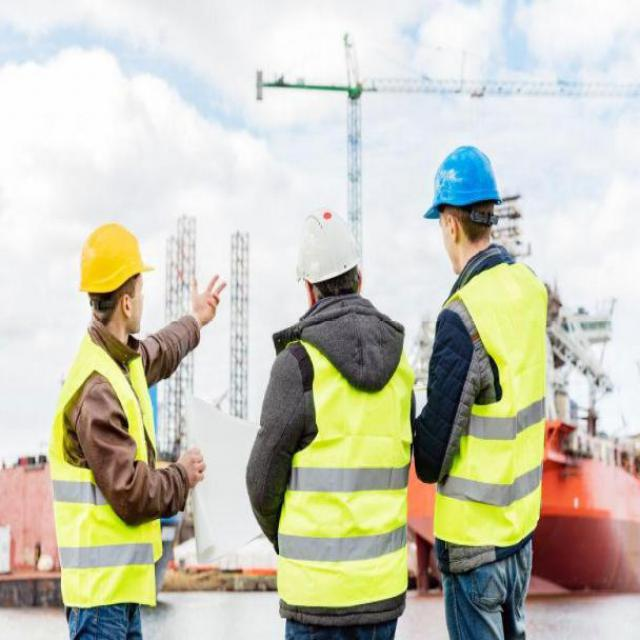helmet: (420, 131, 508, 265), (66, 203, 152, 335), (287, 194, 364, 314)
vest: (283, 340, 421, 611), (41, 337, 167, 592), (447, 278, 558, 545)
